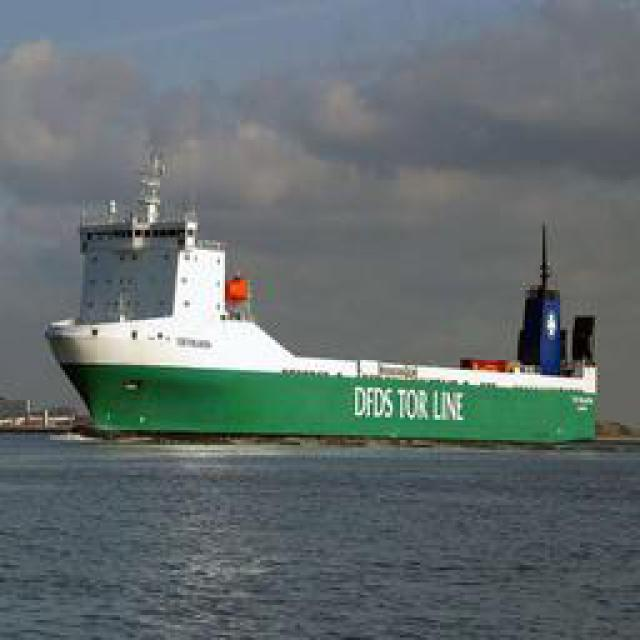Ship: (59, 166, 602, 439)
